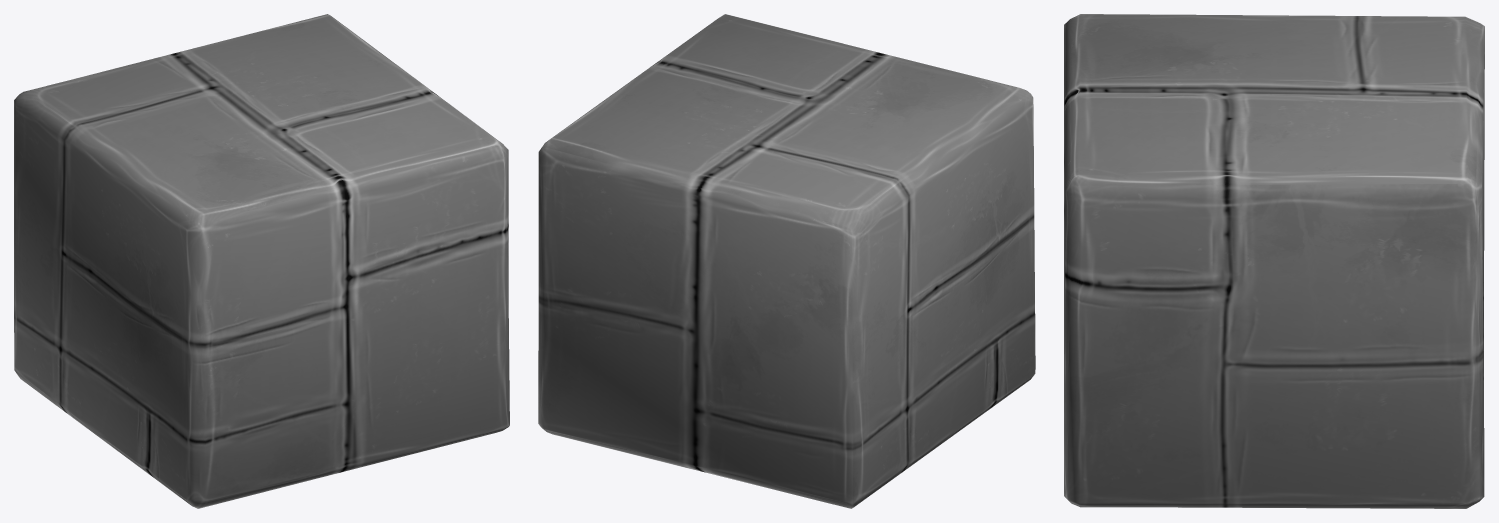
The model's file is SpringTrapBlock.fbx.
3 renders of one model, left to right at view 1: azimuth 30°, elevation 25°; view 2: azimuth 150°, elevation 25°; view 3: azimuth 270°, elevation 25°, orthographic. The views are drawn at different scales.
Parts seen in each view (by area): view 1: SpringTrapBlock_low; view 2: SpringTrapBlock_low; view 3: SpringTrapBlock_low.
Boxes of the visible parts, x1,y1,x2,y2 form: SpringTrapBlock_low: [14, 14, 509, 508]; SpringTrapBlock_low: [538, 14, 1035, 508]; SpringTrapBlock_low: [1064, 14, 1484, 508].
Bounding box in the file's own units: 100 × 87.5 × 100.
Materials: 1 (1 with a texture image).
